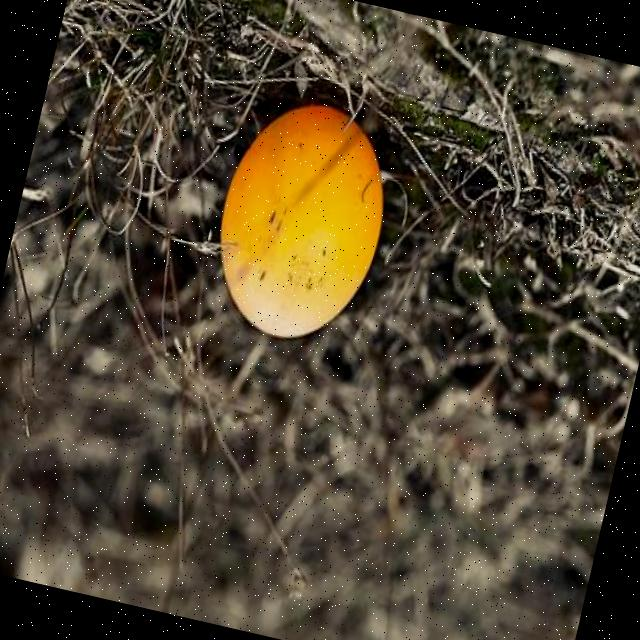ping-pong-ball: (196, 86, 407, 356)
